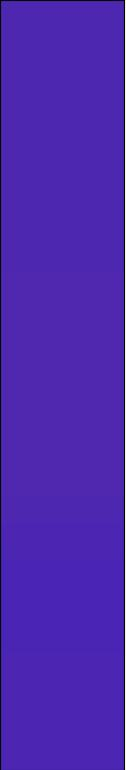safe: (4, 10, 121, 760)
